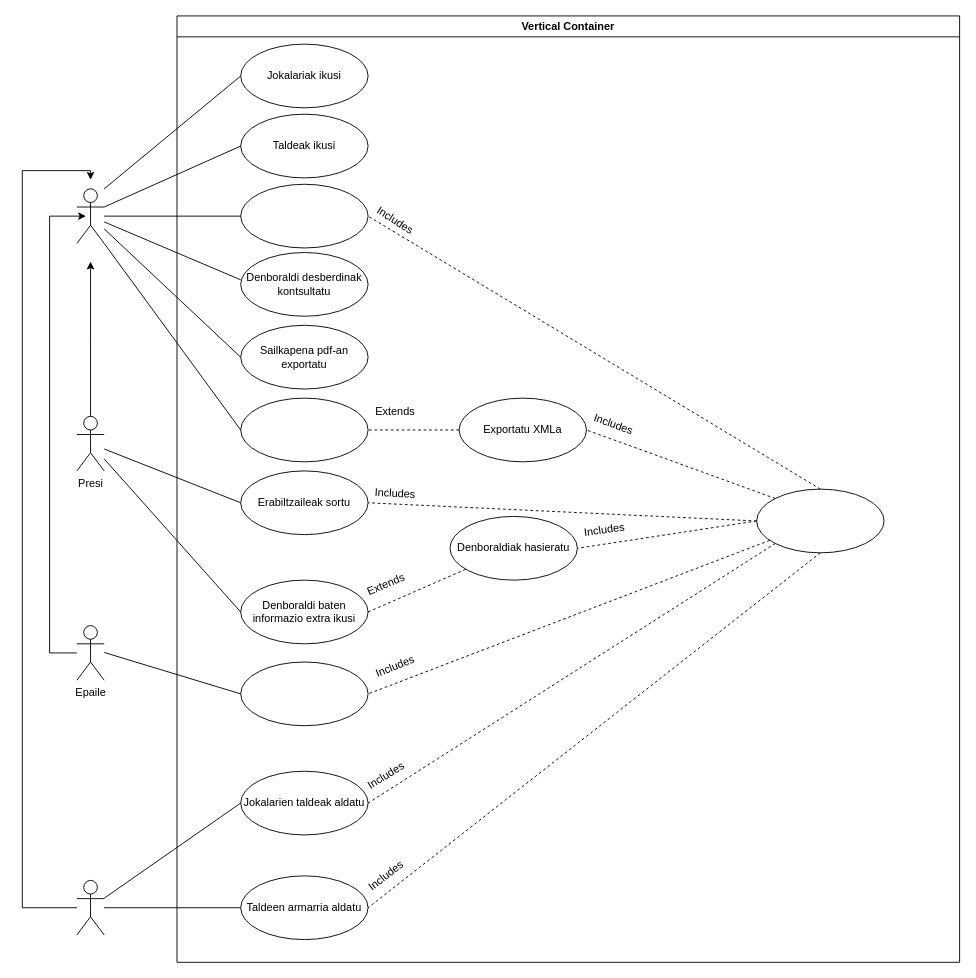
The diagram is 976 pixels wide and 978 high, and some of its shapes have lost their labels. Here are the shapes that lost their labels. From the top down, the centre of each, then its label:
point (90, 215): Erabiltzailea
point (304, 215): Hasi saioa
point (304, 429): Itxi saioa
point (820, 520): Log fitxategian idatzi
point (304, 693): Emaitzak sartu
point (90, 907): Administratzailea
